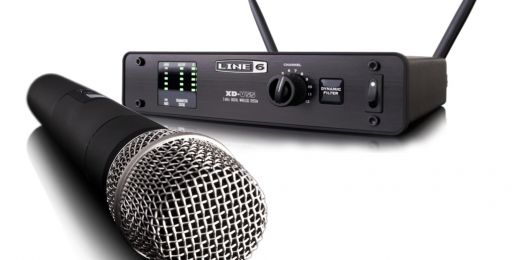microphone: (24, 71, 270, 260)
